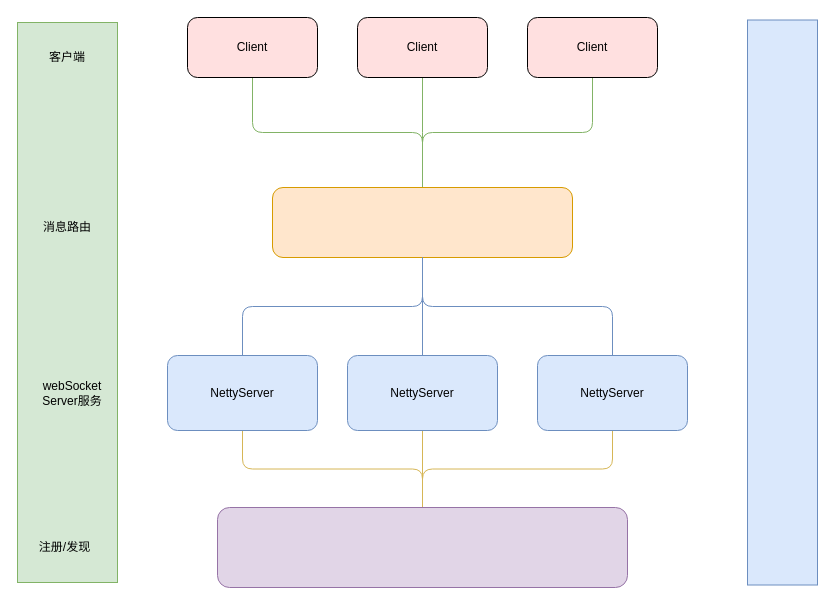
Some shapes in this 835 by 605 pixel diagram are drawn without their labels. The shapes that lost their labels are listed below. From the top down, each one's centre as x and y in pixels, then its label:
the point at 422,222: Server Router
the point at 782,302: Redis
the point at 422,547: Zookeeper
